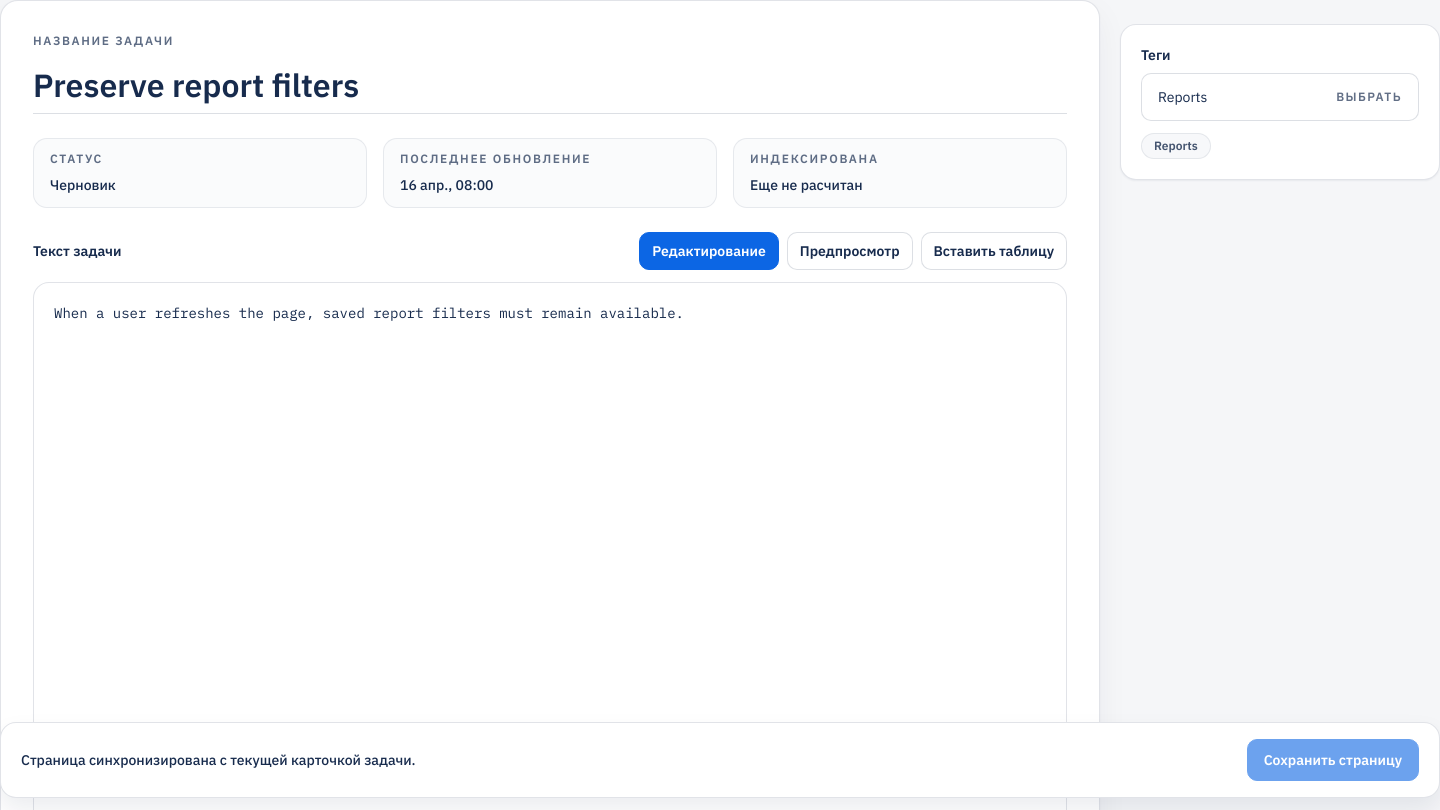
Test: TaskForm › inserts a Markdown table and renders it in preview mode
Click the button "Вставить таблицу": [994, 251] box [921,232,1067,270]
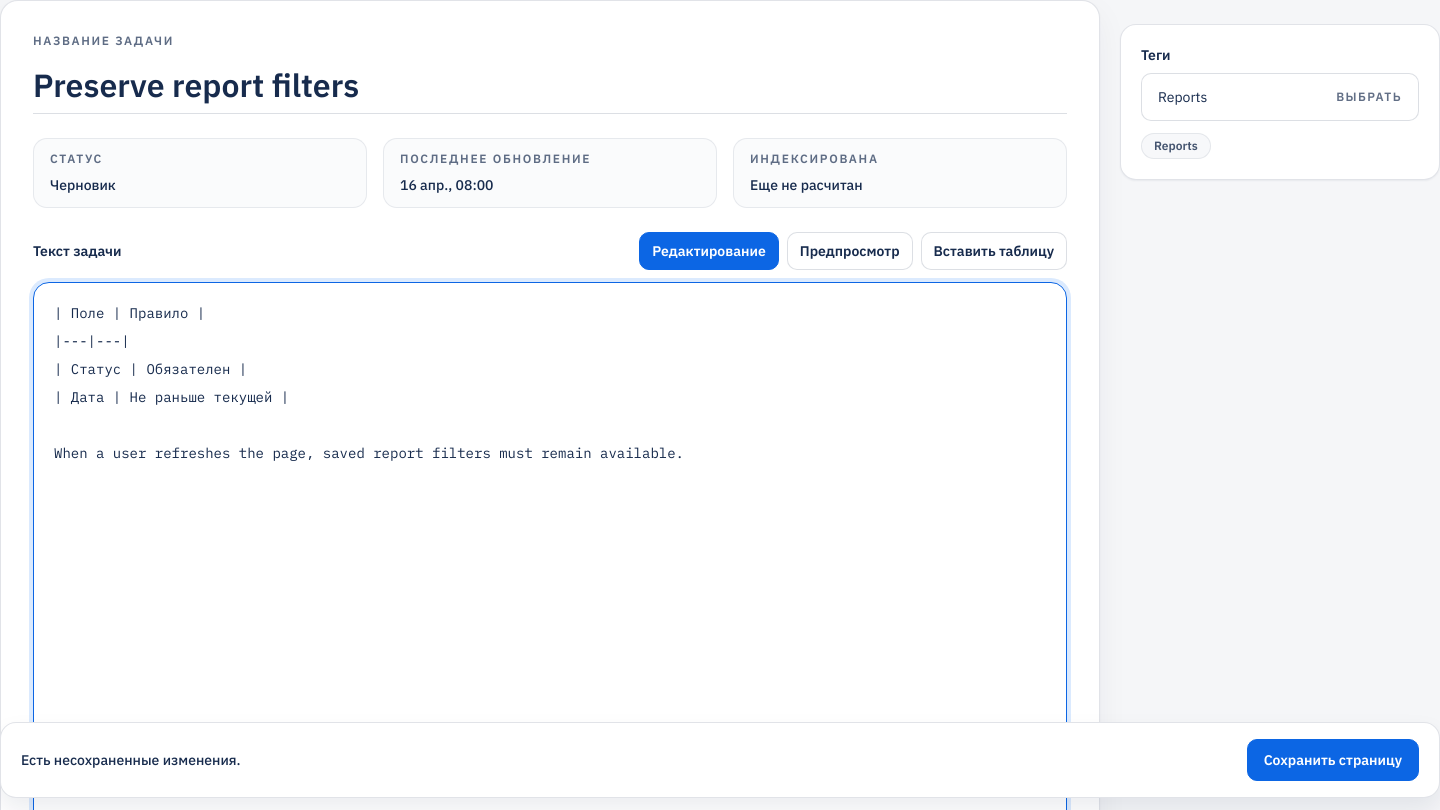
Click the button "Предпросмотр": [850, 251] box [787,232,913,270]
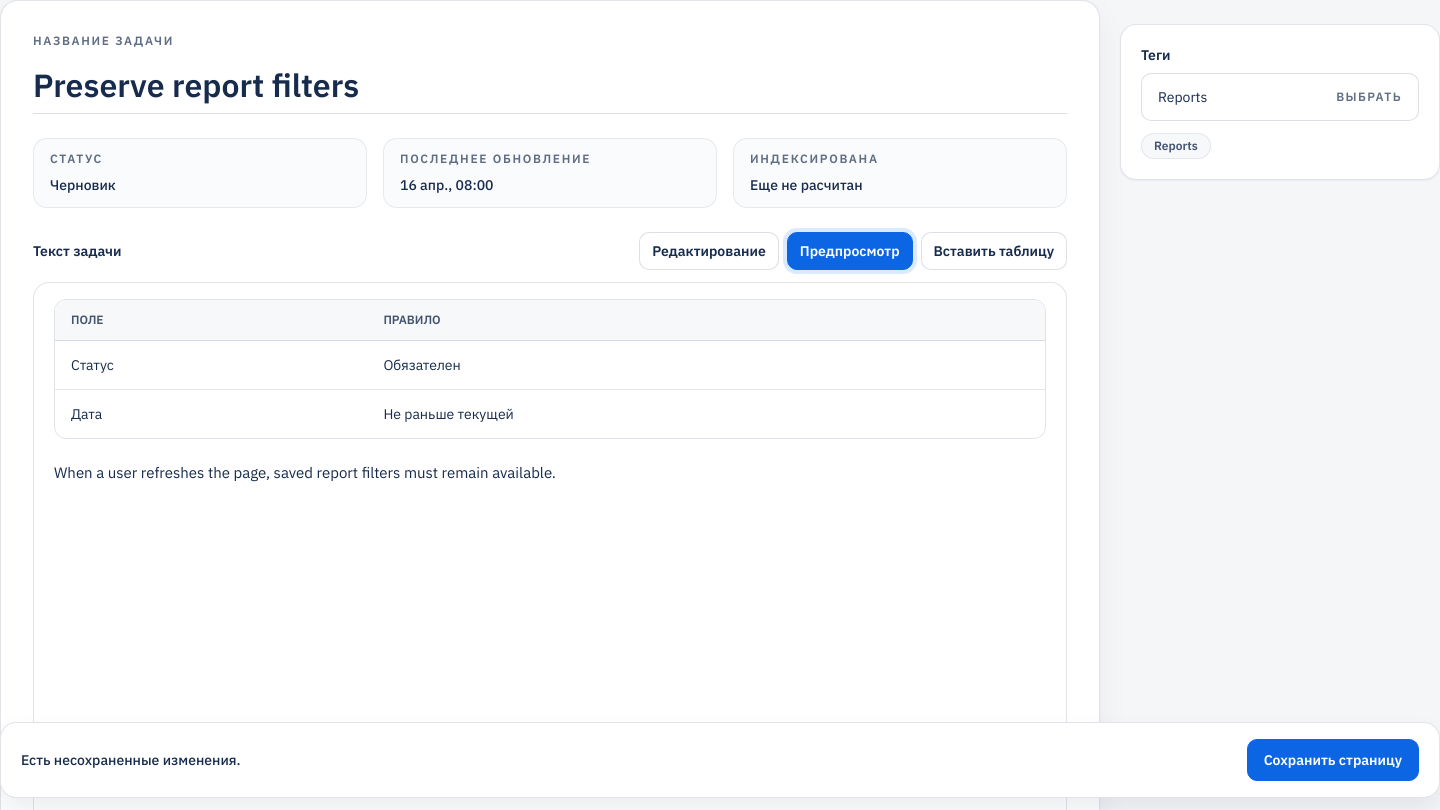
Check: the table is shown, box [55,300,1045,438]
Check: the column heading "Поле" is shown, box [55,300,367,340]
Check: the cell "Обязателен" is shown, box [367,340,1045,390]
